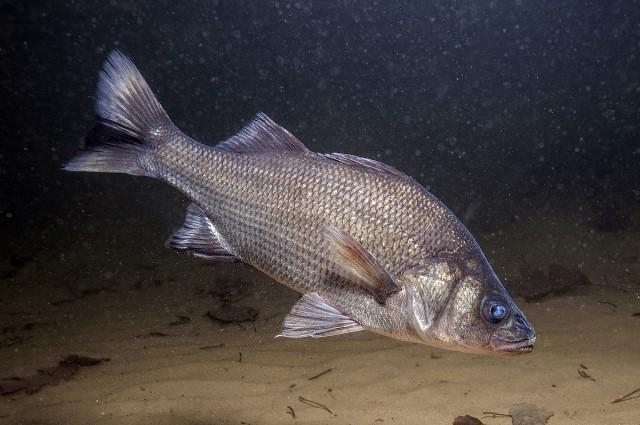Silver Perch: (47, 59, 571, 352)
